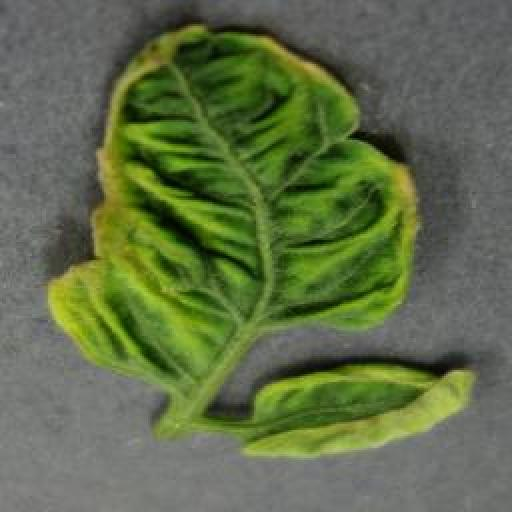disease_tomato: (47, 22, 421, 386), (238, 362, 478, 458)
